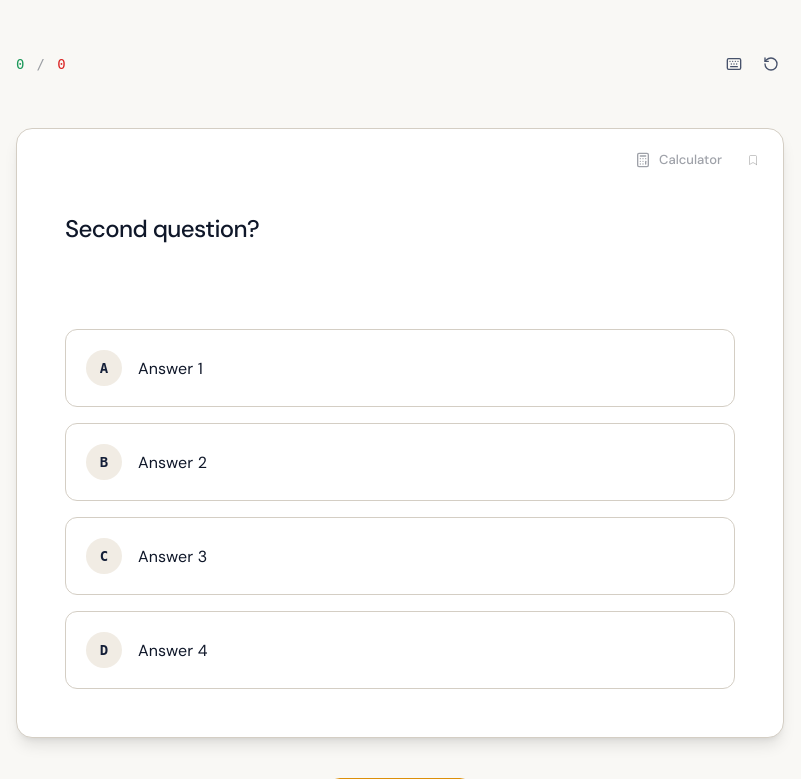
Scenario: RandomPractice › Answer Selection › shows result after selecting an answer
Click the radio button labelled "A Answer 1": click(104, 368) [65, 329, 735, 407]
(page scrolled)
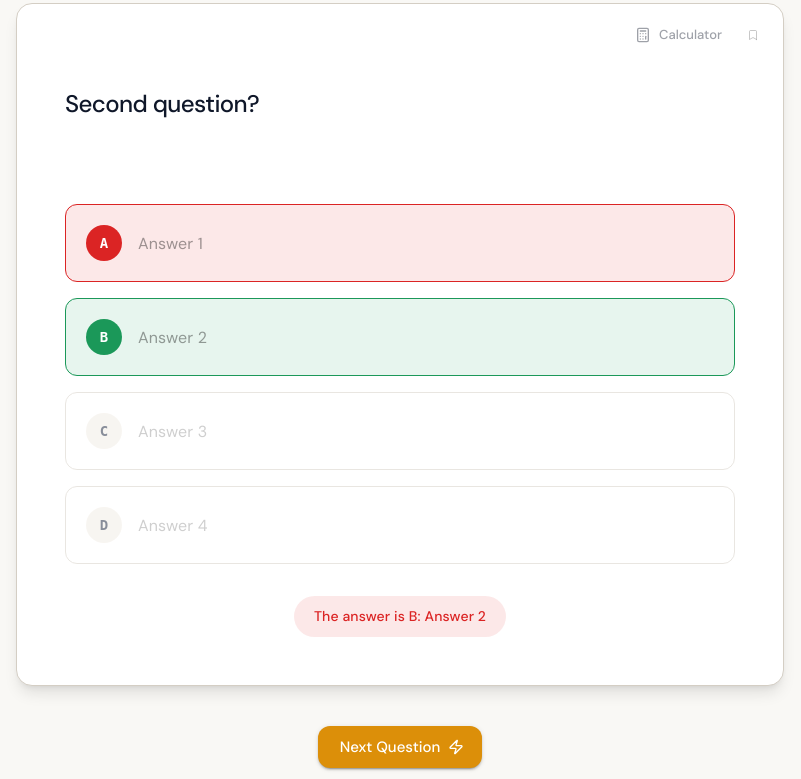
Result: the button "Next Question" is shown at [318, 726, 482, 768]
